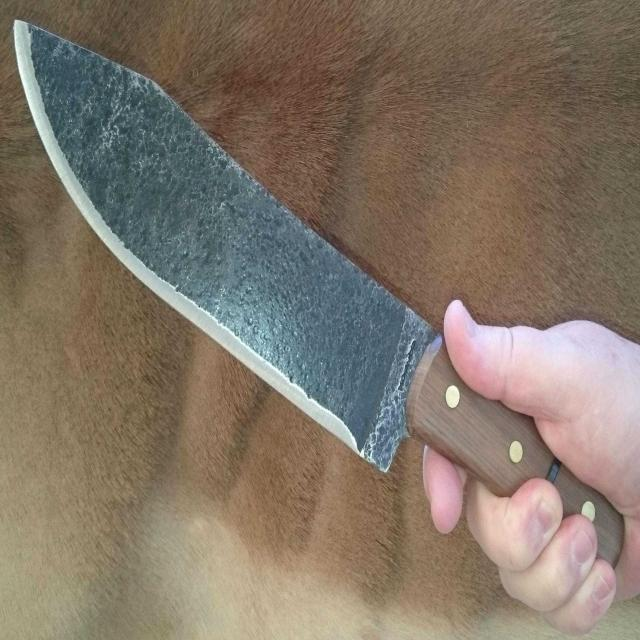Knife: (7, 6, 629, 586)
